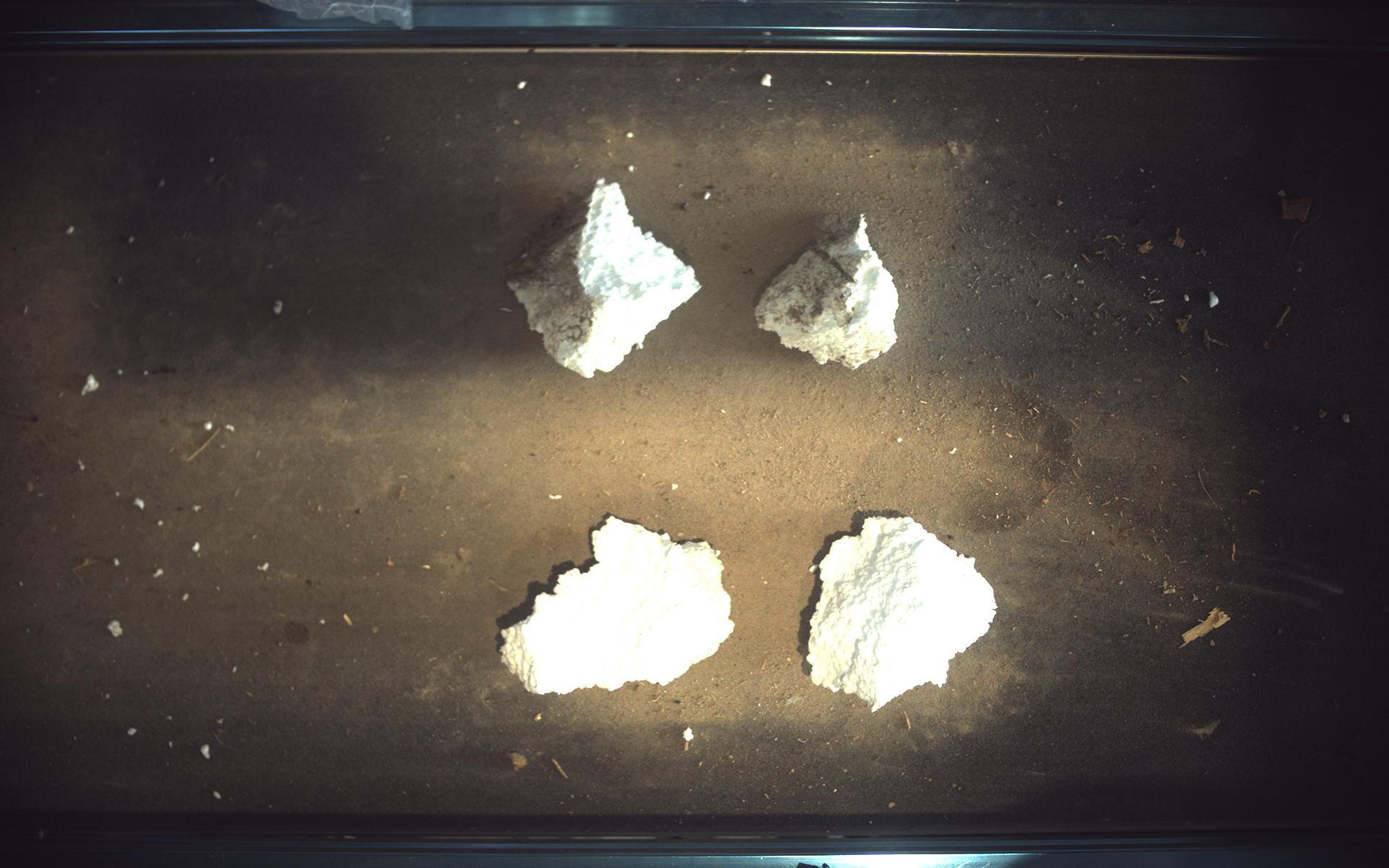foam: (501, 517, 735, 695), (508, 178, 701, 378), (808, 516, 998, 712), (756, 213, 900, 368)
